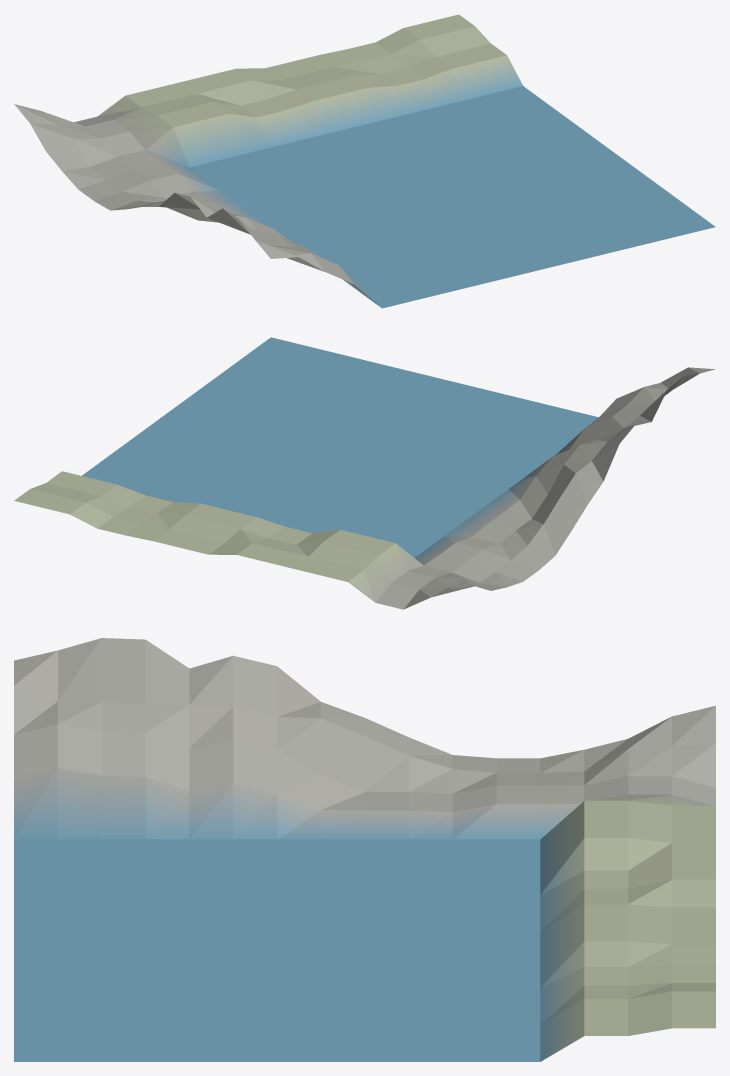
The picture shows the model from 3 angles, top to bottom: view 1: azimuth 30°, elevation 25°; view 2: azimuth 150°, elevation 25°; view 3: azimuth 270°, elevation 25°; orthographic projection. The views are drawn at different scales.
Bounding box in the file's own units: 32 × 6.4 × 32.
